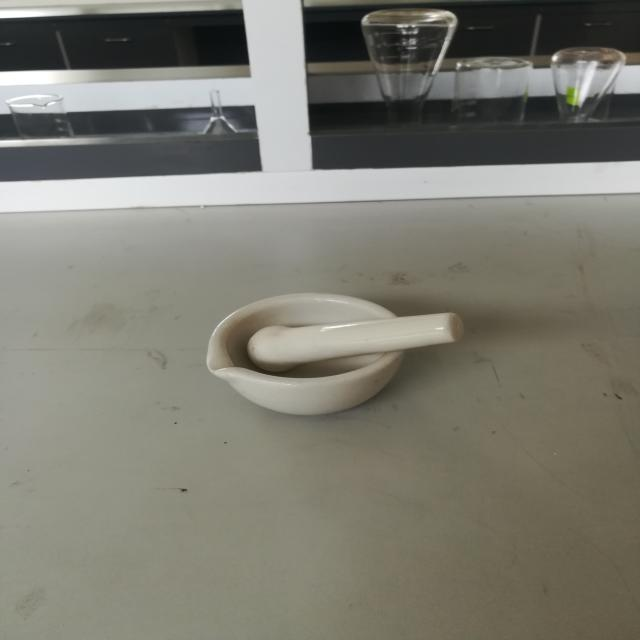Porcelain_Mortar Pestle: (176, 248, 498, 453)
